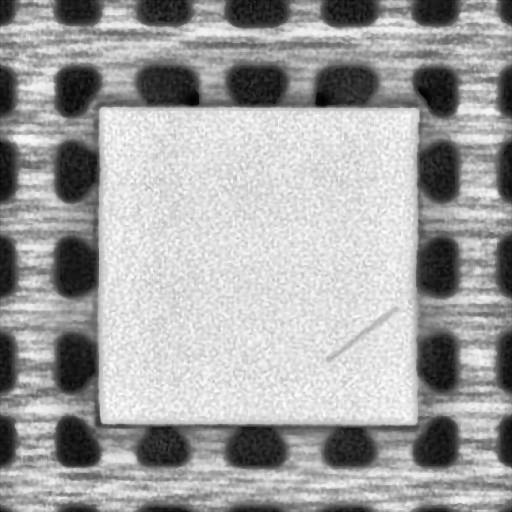DIE_CRACK: (324, 303, 397, 362)
